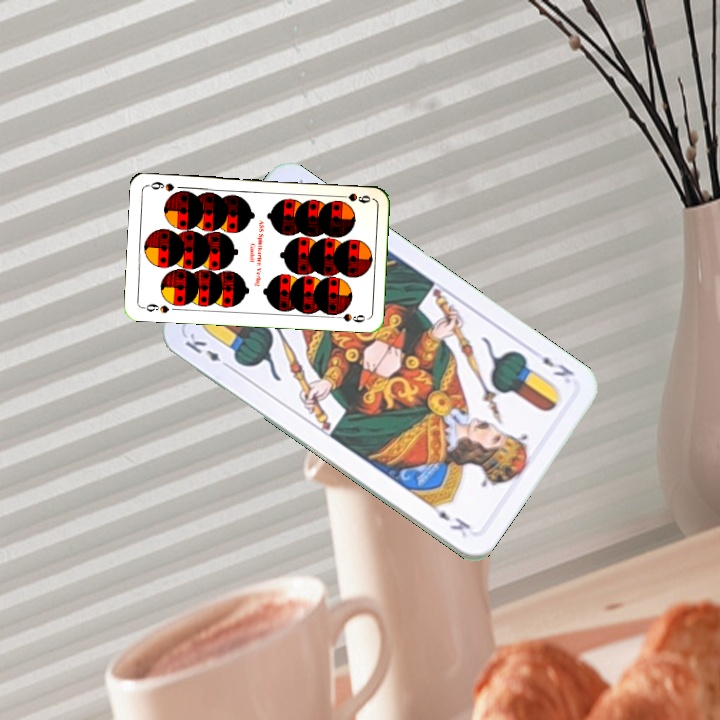EK: (181, 329, 235, 372), (529, 345, 577, 380)
S9: (333, 189, 373, 206), (139, 299, 171, 316)
